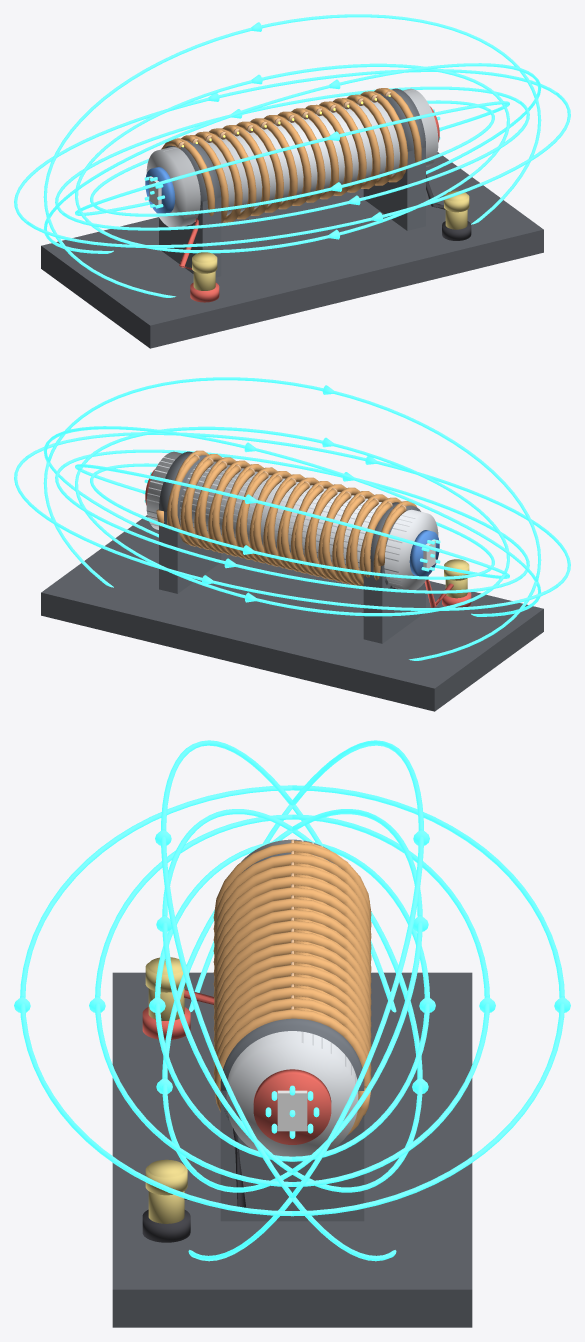
File: solenoid.glb
3 views of the same model, one above another, from view 1: azimuth 30°, elevation 25°; view 2: azimuth 150°, elevation 25°; view 3: azimuth 270°, elevation 25° (orthographic). The views are drawn at different scales.
Visible parts, largest first — view 1: Full_Base_Bench, Full_Copper_Coil, Full_Core_Tube, Full_Cradle_Post_0.065, Full_Ext_Loop_5_1, Full_Ext_Loop_2_-1, Full_Ext_Loop_6_-1, Full_Ext_Loop_2_1, Full_Cradle_Post_-0.065, Full_Ext_Loop_1_-1, Full_Ext_Loop_3_1, Full_Ext_Loop_4_-1 (+12 smaller); view 2: Full_Base_Bench, Full_Copper_Coil, Full_Core_Tube, Full_Cradle_Post_-0.065, Full_Cradle_Post_0.065, Full_Ext_Loop_6_-1, Full_Ext_Loop_2_1, Full_Ext_Loop_5_1, Full_Ext_Loop_2_-1, Full_Ext_Loop_1_1, Full_Ext_Loop_4_-1, Full_Ext_Loop_3_1 (+25 smaller); view 3: Full_Base_Bench, Full_Copper_Coil, Full_Core_Tube, Full_Cradle_Post_0.065, Full_Ext_Loop_2_1, Full_Ext_Loop_2_-1, Full_Ext_Loop_5_1, Full_Ext_Loop_6_-1, Full_Badge_North, Full_Ext_Loop_1_1, Full_Ext_Loop_1_-1, Full_Ext_Loop_3_1 (+13 smaller).
Part boxes in pixels (x1,y1,x2,y2): Full_Base_Bench: [41, 152, 543, 348]; Full_Copper_Coil: [161, 88, 421, 222]; Full_Core_Tube: [146, 88, 438, 226]; Full_Cradle_Post_0.065: [363, 147, 425, 230]; Full_Ext_Loop_5_1: [43, 14, 536, 217]; Full_Ext_Loop_2_-1: [26, 92, 570, 247]; Full_Ext_Loop_6_-1: [47, 63, 541, 218]; Full_Ext_Loop_2_1: [14, 69, 557, 223]; Full_Cradle_Post_-0.065: [159, 197, 221, 277]; Full_Ext_Loop_1_-1: [63, 101, 529, 230]; Full_Ext_Loop_3_1: [75, 63, 505, 210]; Full_Ext_Loop_4_-1: [78, 101, 509, 211]; Full_Base_Bench: [41, 515, 543, 711]; Full_Copper_Coil: [156, 450, 416, 586]; Full_Core_Tube: [146, 451, 438, 589]; Full_Cradle_Post_-0.065: [363, 562, 425, 643]; Full_Cradle_Post_0.065: [159, 511, 221, 593]; Full_Ext_Loop_6_-1: [48, 377, 541, 580]; Full_Ext_Loop_2_1: [14, 455, 558, 610]; Full_Ext_Loop_5_1: [43, 426, 537, 581]; Full_Ext_Loop_2_-1: [27, 432, 570, 586]; Full_Ext_Loop_1_1: [55, 464, 521, 593]; Full_Ext_Loop_4_-1: [79, 426, 509, 573]; Full_Ext_Loop_3_1: [75, 464, 506, 574]; Full_Base_Bench: [112, 972, 472, 1327]; Full_Copper_Coil: [213, 843, 371, 1135]; Full_Core_Tube: [226, 839, 358, 1161]; Full_Cradle_Post_0.065: [220, 1090, 364, 1221]; Full_Ext_Loop_2_1: [292, 785, 564, 1216]; Full_Ext_Loop_2_-1: [20, 785, 292, 1216]; Full_Ext_Loop_5_1: [292, 740, 423, 1198]; Full_Ext_Loop_6_-1: [161, 740, 292, 1198]; Full_Badge_North: [253, 1069, 331, 1144]; Full_Ext_Loop_1_1: [292, 814, 489, 1186]; Full_Ext_Loop_1_-1: [95, 814, 292, 1186]; Full_Ext_Loop_3_1: [292, 809, 422, 1172].
Bounding box in the file's own units: 0.3378 × 0.1286 × 0.1858.
